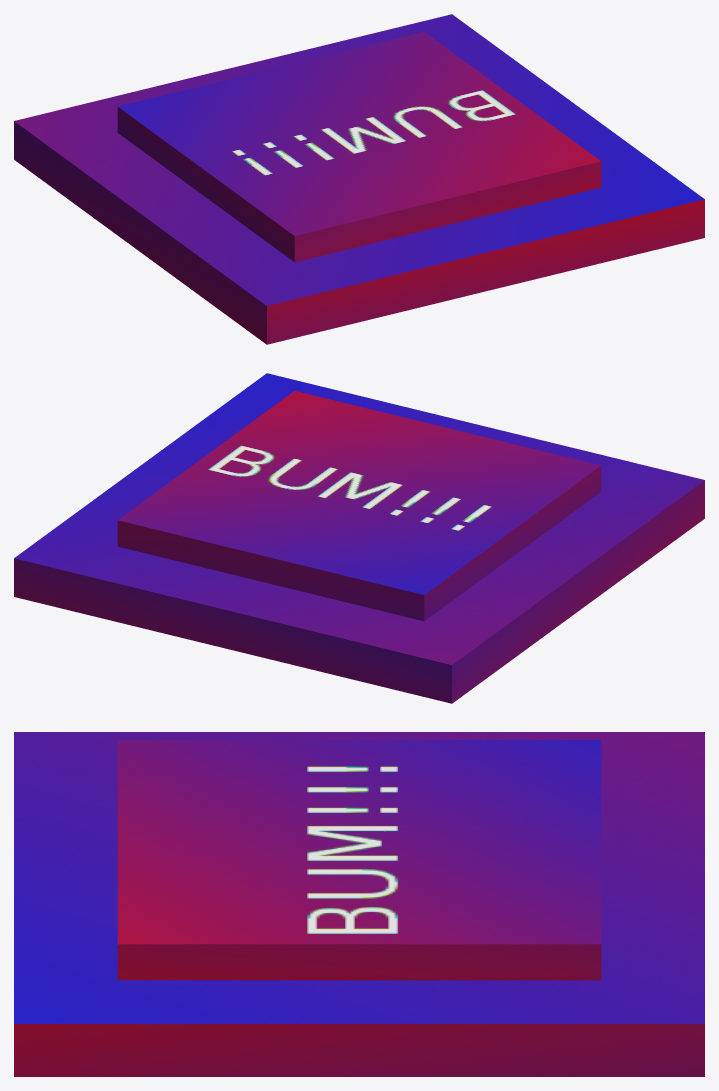
File: detonator.obj
The picture shows the model from 3 angles, top to bottom: view 1: azimuth 30°, elevation 25°; view 2: azimuth 150°, elevation 25°; view 3: azimuth 270°, elevation 25°; orthographic projection. The views are drawn at different scales.
Visible parts, largest first — view 1: Cube_Cube.001, Cube.001_Cube.002; view 2: Cube_Cube.001, Cube.001_Cube.002; view 3: Cube_Cube.001, Cube.001_Cube.002.
Boxes of the visible parts, <box> form: Cube_Cube.001: <box>14,14,704,344</box>; Cube.001_Cube.002: <box>117,32,601,262</box>; Cube_Cube.001: <box>14,373,704,703</box>; Cube.001_Cube.002: <box>117,391,601,621</box>; Cube_Cube.001: <box>14,732,704,1076</box>; Cube.001_Cube.002: <box>117,740,601,980</box>.
Size of the model in its own units: 2 by 0.2829 by 2.
Materials: 1 (1 with a texture image).
